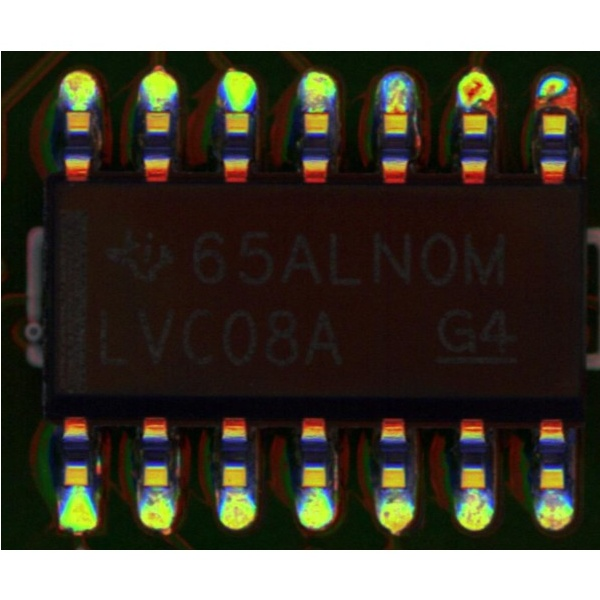Bad_podu: (385, 100, 406, 122)
